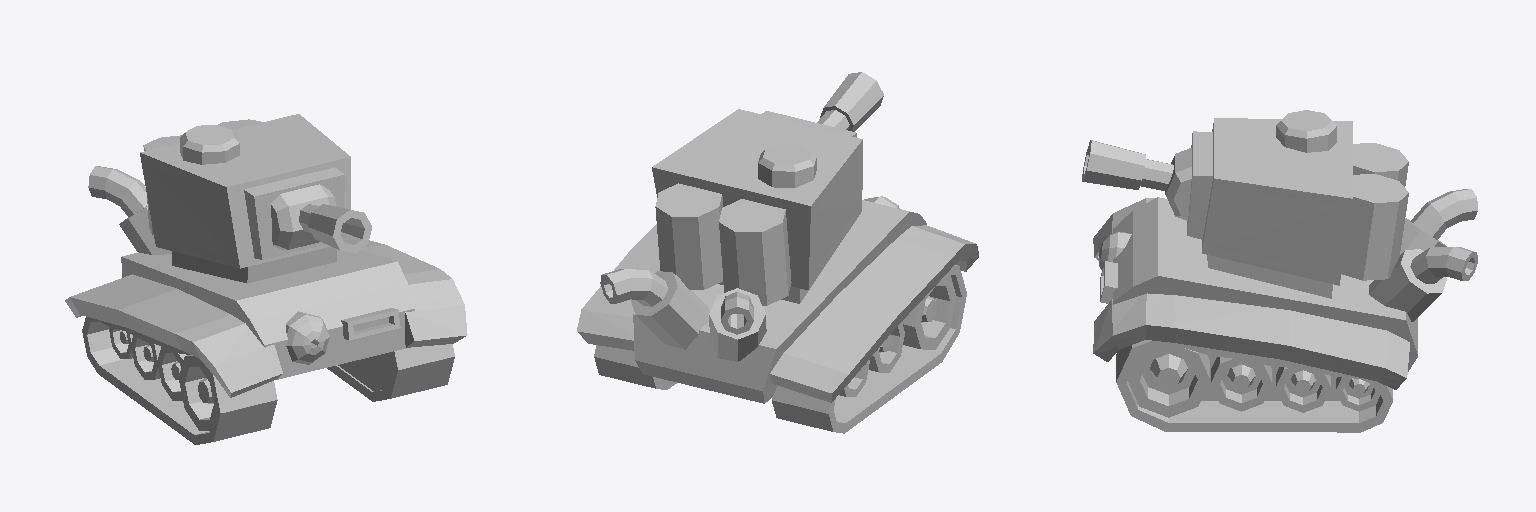
The model's file is Tank2.obj.
3 views of the same model, side by side, from view 1: azimuth 30°, elevation 25°; view 2: azimuth 150°, elevation 25°; view 3: azimuth 270°, elevation 25° (orthographic).
Parts seen in each view (by area): view 1: headusOBJexport; view 2: headusOBJexport; view 3: headusOBJexport.
Part boxes in pixels (x1,y1,x2,y2): headusOBJexport: (65,114,467,444); headusOBJexport: (577,72,978,433); headusOBJexport: (1082,110,1477,432).
Size of the model in its own units: 12.07 by 10.28 by 15.49.